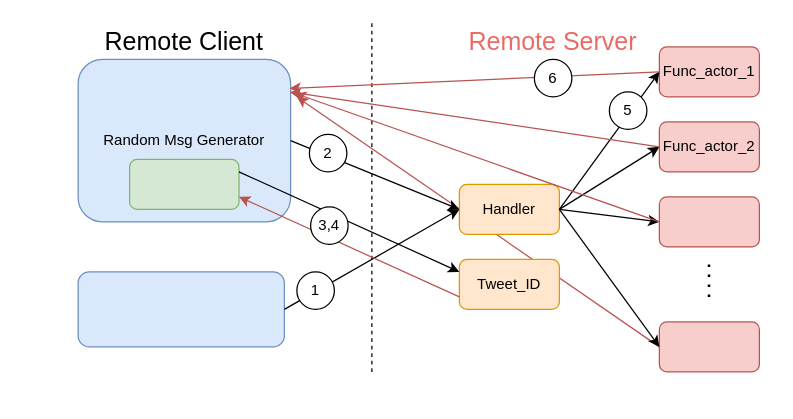
The diagram is 793 pixels wide and 419 high, and some of its shapes have lost their labels. The centre of each missing label's shape, as x and y in pixels:
"Func_actor_3" belongs at pixel 708 221.
"Func_actor_7" belongs at pixel 708 346.
"Retweet" belongs at pixel 183 183.
"User Creator" belongs at pixel 180 309.
